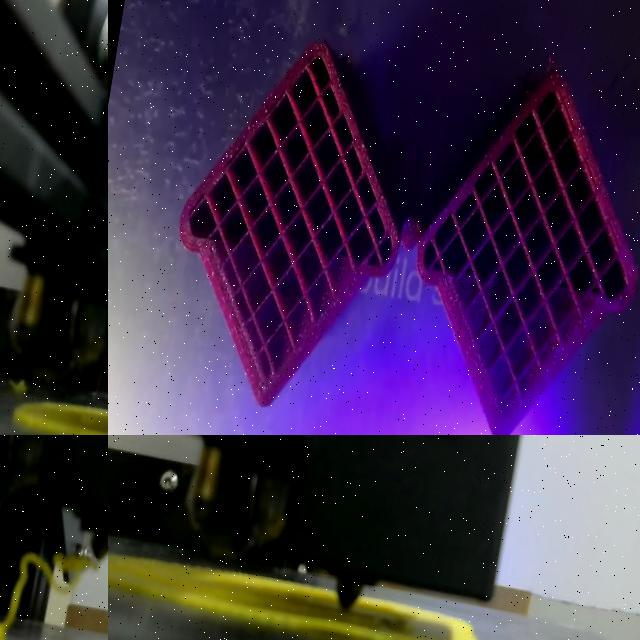spaghetti: (0, 552, 57, 640), (54, 553, 95, 585)
